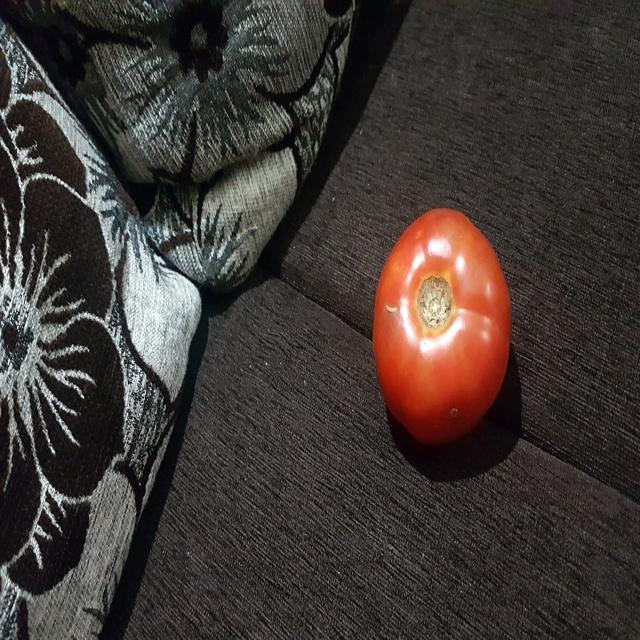tomato: (368, 203, 523, 443)
